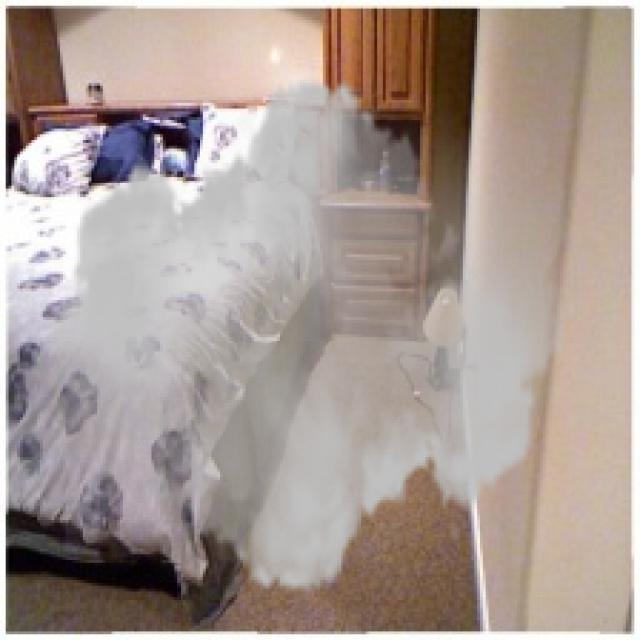Smoke: (31, 57, 578, 614)
